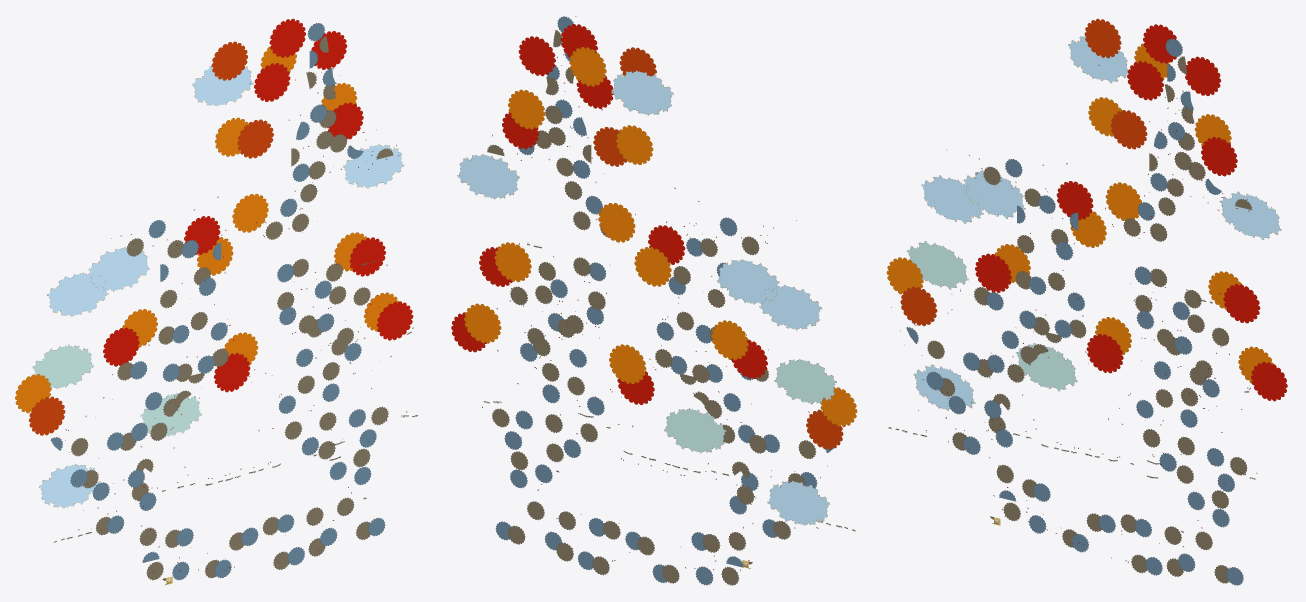
File: bigtree03_bg.glb
3 renders of one model, left to right at view 1: azimuth 30°, elevation 25°; view 2: azimuth 150°, elevation 25°; view 3: azimuth 330°, elevation 25°, orthographic. The views are drawn at different scales.
Parts seen in each view (by area): view 1: bigtree03_bg; view 2: bigtree03_bg; view 3: bigtree03_bg.
Part boxes in pixels (x1=…): bigtree03_bg: x1=15, y1=18, x2=417, y2=584; bigtree03_bg: x1=451, y1=16, x2=857, y2=585; bigtree03_bg: x1=886, y1=18, x2=1287, y2=585.
Size of the model in its own units: 2328 by 3009 by 297.
12 materials, 12 textured.
